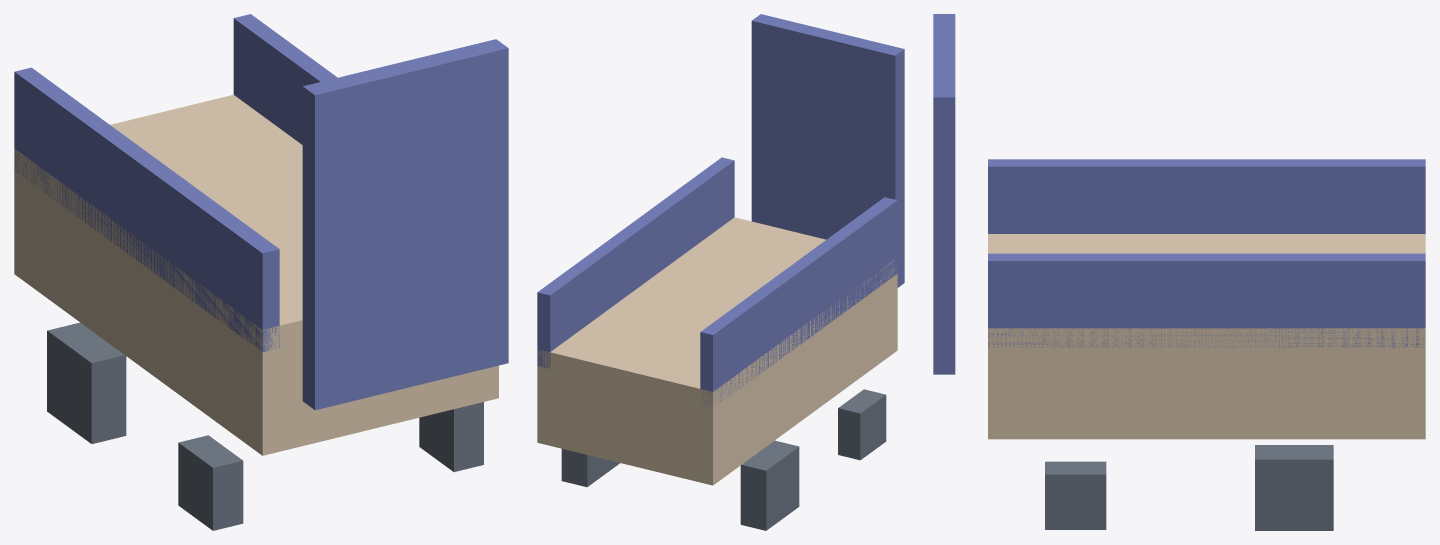
File: cart_01_lo1.glb
3 views of the same model, side by side, from view 1: azimuth 30°, elevation 25°; view 2: azimuth 150°, elevation 25°; view 3: azimuth 270°, elevation 25° (orthographic). The views are drawn at different scales.
Visible parts, largest first — view 1: cart_01_lo1; view 2: cart_01_lo1; view 3: cart_01_lo1.
Part boxes in pixels (x1,y1,x2,y2): cart_01_lo1: [14, 14, 508, 530]; cart_01_lo1: [537, 14, 904, 530]; cart_01_lo1: [933, 14, 1425, 530].
Size of the model in its own units: 0.64 by 1.05 by 1.12.
